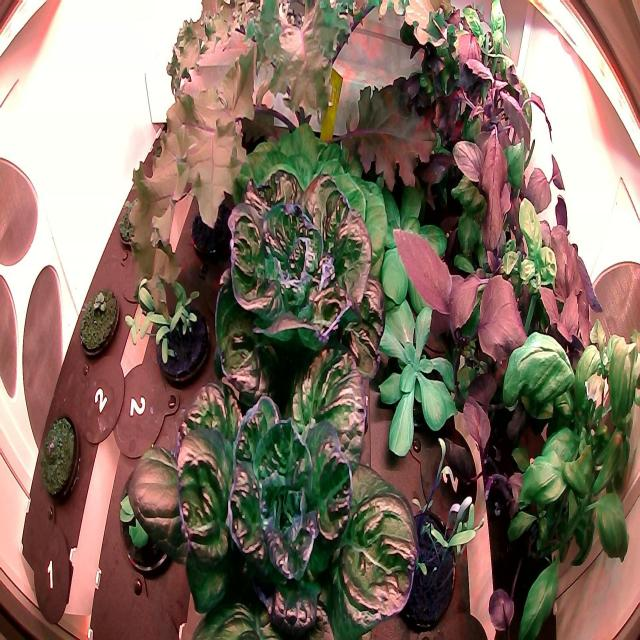Ready: (124, 316, 422, 636), (205, 168, 388, 412)
germination: (128, 272, 214, 392), (72, 276, 123, 361), (116, 187, 155, 257)
pod: (31, 410, 86, 508), (184, 197, 230, 268)
young: (203, 109, 398, 310), (371, 297, 462, 458), (374, 181, 454, 312), (116, 442, 188, 580), (119, 273, 123, 275)
